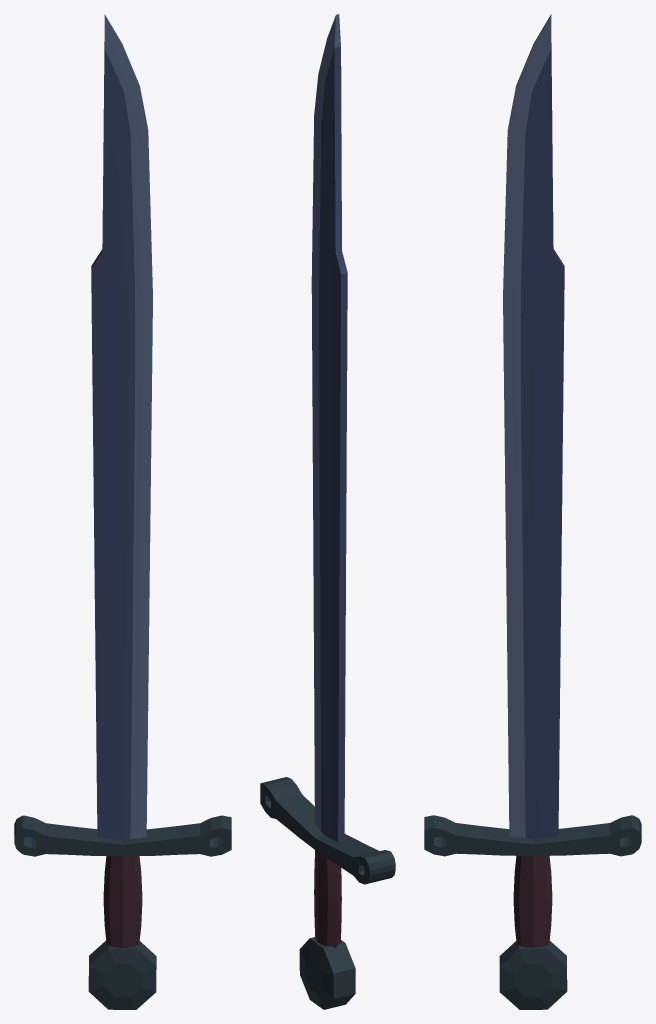
File: Sword_02.fbx
3 renders of one model, left to right at view 1: azimuth 90°, elevation 25°; view 2: azimuth 210°, elevation 25°; view 3: azimuth 270°, elevation 25°, orthographic.
Visible parts, largest first — view 1: Sword 02; view 2: Sword 02; view 3: Sword 02.
Boxes of the visible parts, left/top/right/bottom form: Sword 02: left=14, top=14, right=231, bottom=1009; Sword 02: left=260, top=14, right=395, bottom=1009; Sword 02: left=424, top=14, right=641, bottom=1009.
Size of the model in its own units: 4.17 by 145 by 28.87.
